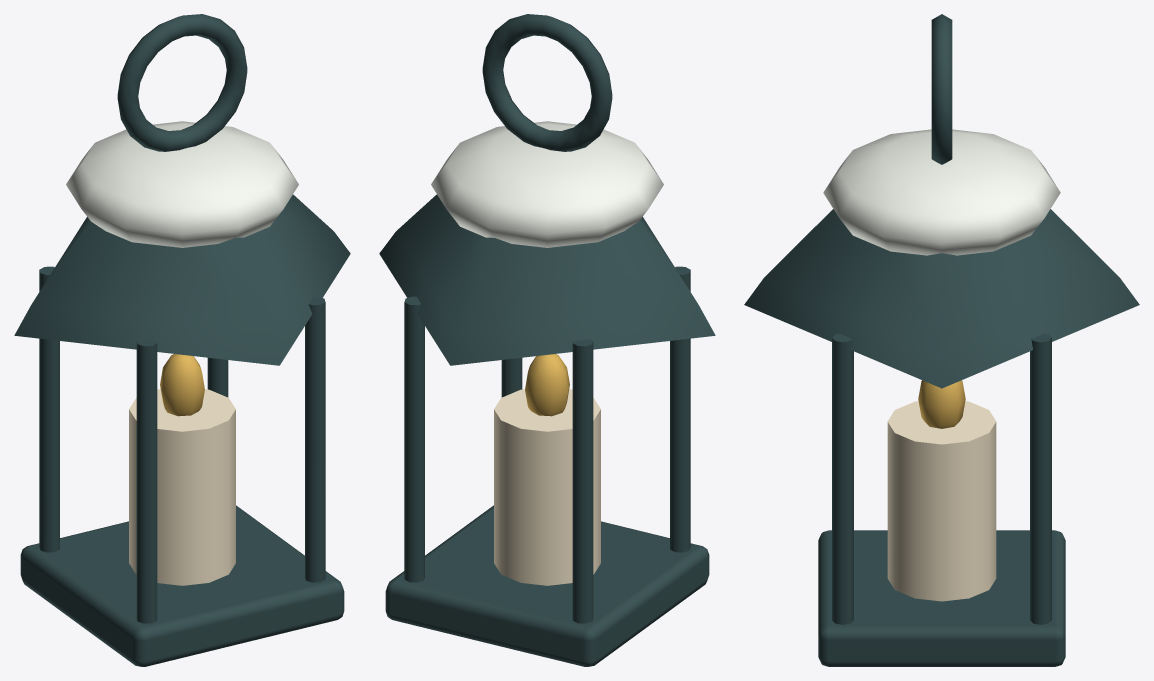
The model's file is almanac-gardens-winter-lantern-dcff6a87__22095.glb.
3 renders of one model, left to right at view 1: azimuth 30°, elevation 25°; view 2: azimuth 150°, elevation 25°; view 3: azimuth 270°, elevation 25°, orthographic.
Parts seen in each view (by area): view 1: winter-lantern-iron, winter-lantern-snow, winter-lantern-ivory, winter-lantern-gold; view 2: winter-lantern-iron, winter-lantern-snow, winter-lantern-ivory, winter-lantern-gold; view 3: winter-lantern-iron, winter-lantern-snow, winter-lantern-ivory, winter-lantern-gold.
Boxes of the visible parts, x1,y1,x2,y2 form: winter-lantern-iron: (14, 14, 350, 666); winter-lantern-snow: (66, 121, 298, 247); winter-lantern-ivory: (129, 389, 235, 585); winter-lantern-gold: (160, 354, 204, 416); winter-lantern-iron: (379, 14, 715, 666); winter-lantern-snow: (431, 121, 663, 247); winter-lantern-ivory: (494, 389, 600, 585); winter-lantern-gold: (525, 354, 569, 416); winter-lantern-iron: (744, 14, 1139, 666); winter-lantern-snow: (823, 129, 1060, 255); winter-lantern-ivory: (887, 401, 996, 601); winter-lantern-gold: (918, 380, 965, 428).
Size of the model in its own units: 0.4 by 0.667 by 0.4.
